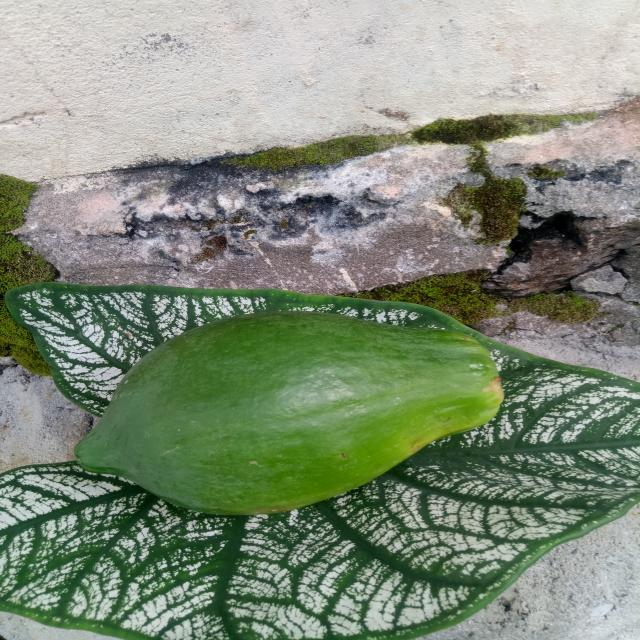Pepaya unrippen: (66, 316, 512, 522)
